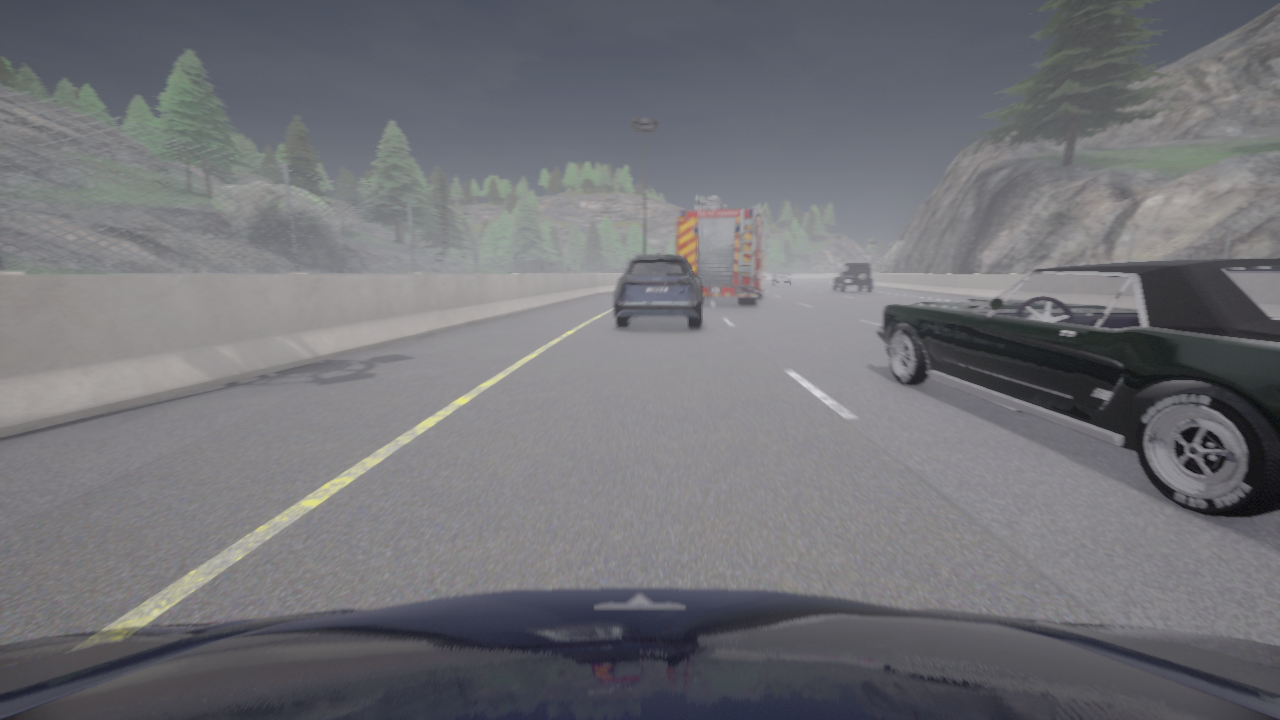cyclist: (0, 588, 1279, 719), (876, 258, 1279, 518), (676, 196, 771, 305), (614, 254, 702, 328), (832, 262, 873, 292), (772, 272, 792, 285)
